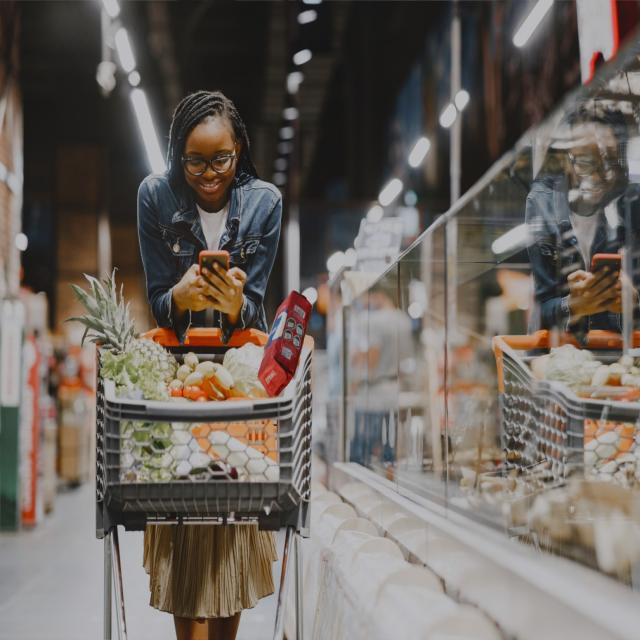mate bag: (257, 289, 312, 398)
